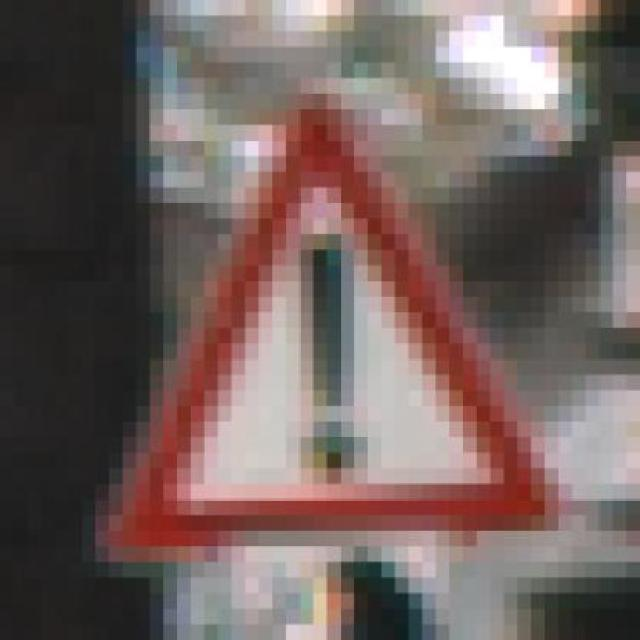Attention Please-: (68, 78, 586, 562)
